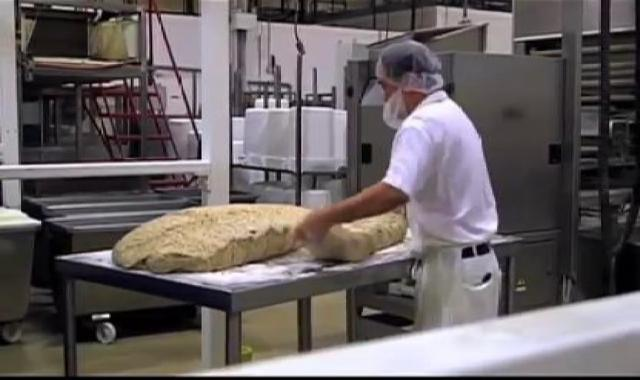hairnet: (375, 38, 451, 83)
